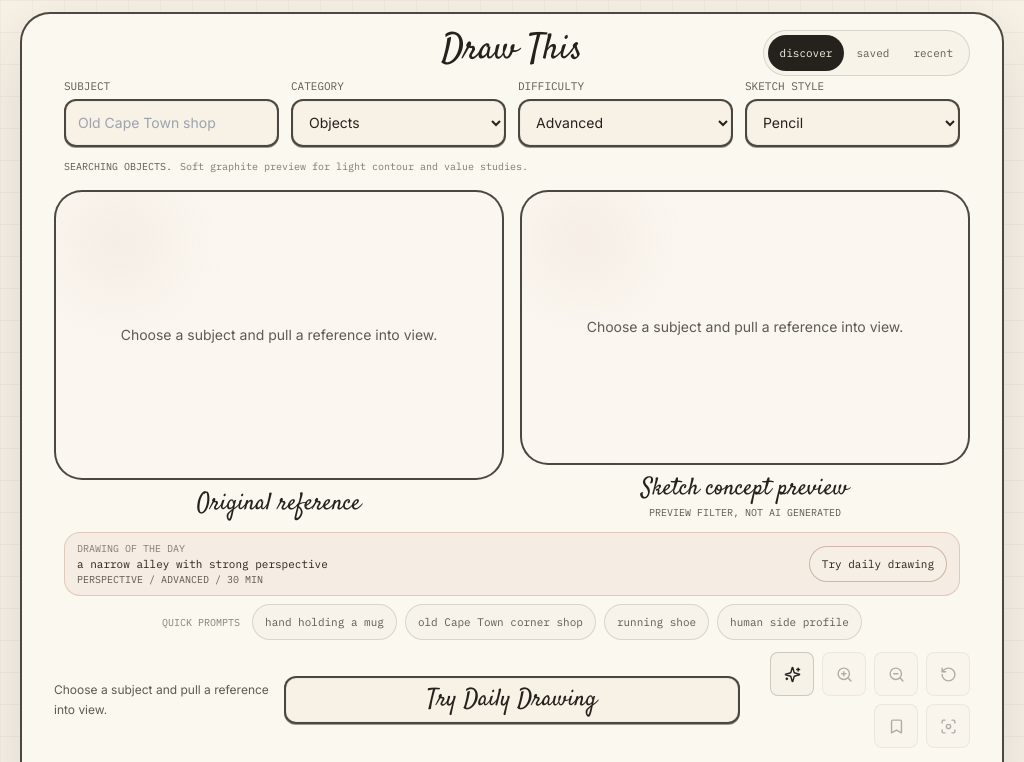
Test: DrawThisApp › clear prompt resets the subject field
Click the button "hand holding a mug" at (324, 622), box [252, 604, 397, 640]
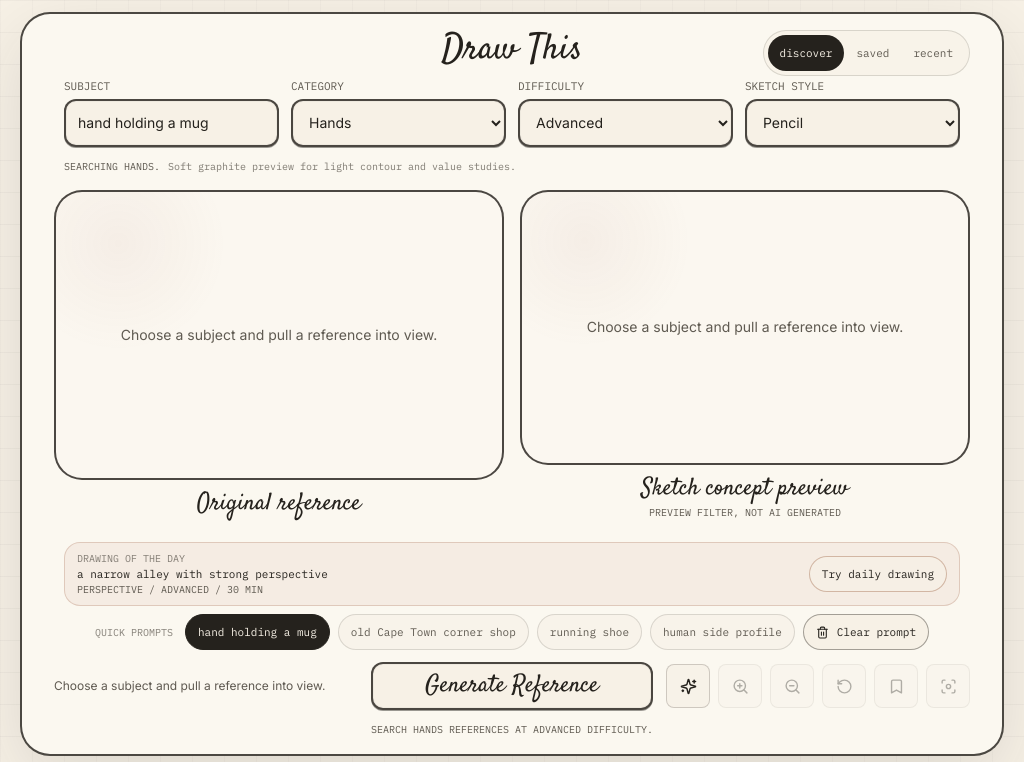
Result: the field labelled "Subject" holds "hand holding a mug" at [64, 98, 279, 146]
Result: the button "Clear prompt" is shown
Click the button "Clear prompt" at (866, 632), box [803, 614, 929, 650]
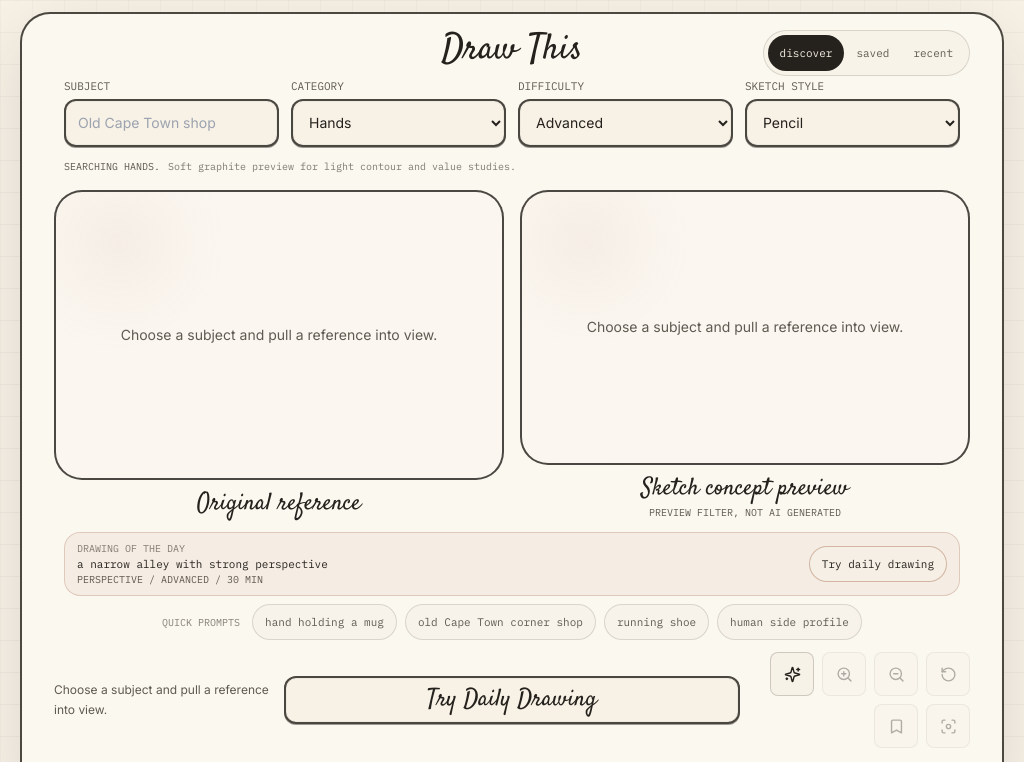
Result: the field labelled "Subject" is empty at [64, 98, 279, 146]
